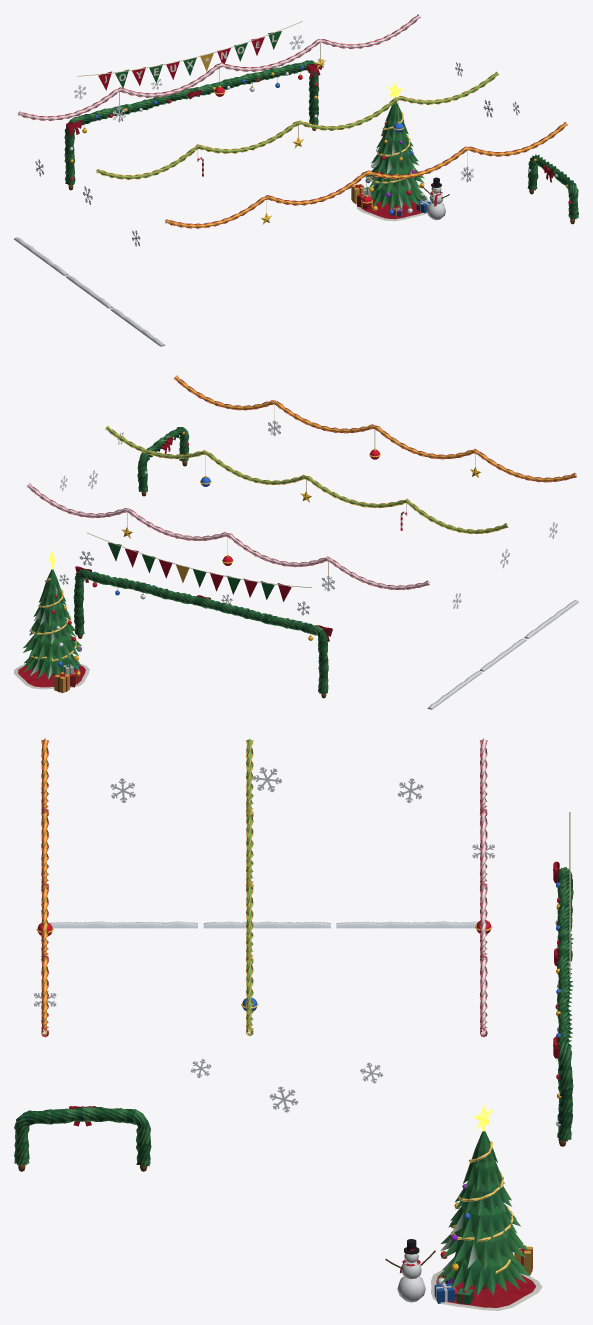
File: noel.glb
3 renders of one model, top to bottom at view 1: azimuth 30°, elevation 25°; view 2: azimuth 150°, elevation 25°; view 3: azimuth 270°, elevation 25°, orthographic. The views are drawn at different scales.
Visible parts, largest first — view 1: Guirlandes_Plafond, Sapin, Guirlande_Tableau, Banderole, Guirlande_Porte, Neige_Fenetres, Flocons, Cadeaux, Sapin_Decor, Bonhomme, Noeuds; view 2: Guirlandes_Plafond, Sapin, Guirlande_Tableau, Banderole, Guirlande_Porte, Neige_Fenetres, Flocons, Sapin_Decor, Cadeaux; view 3: Sapin, Guirlandes_Plafond, Guirlande_Tableau, Guirlande_Porte, Neige_Fenetres, Flocons, Bonhomme, Cadeaux, Sapin_Decor.
Boxes of the visible parts, bbox=[...] form: Guirlandes_Plafond: bbox=[18, 14, 567, 228]; Sapin: bbox=[356, 102, 428, 221]; Guirlande_Tableau: bbox=[64, 60, 319, 190]; Banderole: bbox=[77, 21, 302, 90]; Guirlande_Porte: bbox=[527, 154, 578, 224]; Neige_Fenetres: bbox=[14, 237, 165, 346]; Flocons: bbox=[35, 35, 519, 246]; Cadeaux: bbox=[351, 184, 430, 216]; Sapin_Decor: bbox=[365, 111, 424, 214]; Bonhomme: bbox=[421, 177, 449, 220]; Noeuds: bbox=[66, 63, 553, 182]; Guirlandes_Plafond: bbox=[26, 375, 576, 589]; Sapin: bbox=[14, 569, 89, 689]; Guirlande_Tableau: bbox=[73, 569, 328, 698]; Banderole: bbox=[87, 532, 312, 601]; Guirlande_Porte: bbox=[137, 427, 189, 496]; Neige_Fenetres: bbox=[427, 600, 578, 709]; Flocons: bbox=[59, 432, 557, 615]; Sapin_Decor: bbox=[30, 578, 81, 676]; Cadeaux: bbox=[54, 664, 77, 692]; Sapin: bbox=[431, 1131, 542, 1310]; Guirlandes_Plafond: bbox=[41, 738, 487, 1037]; Guirlande_Tableau: bbox=[556, 867, 573, 1146]; Guirlande_Porte: bbox=[14, 1107, 151, 1171]; Neige_Fenetres: bbox=[49, 921, 477, 928]; Flocons: bbox=[110, 767, 423, 1112]; Bonhomme: bbox=[385, 1239, 435, 1302]; Cadeaux: bbox=[434, 1245, 532, 1304]; Sapin_Decor: bbox=[437, 1141, 513, 1296].
Size of the model in its own units: 14.6 by 6.29 by 11.59.
